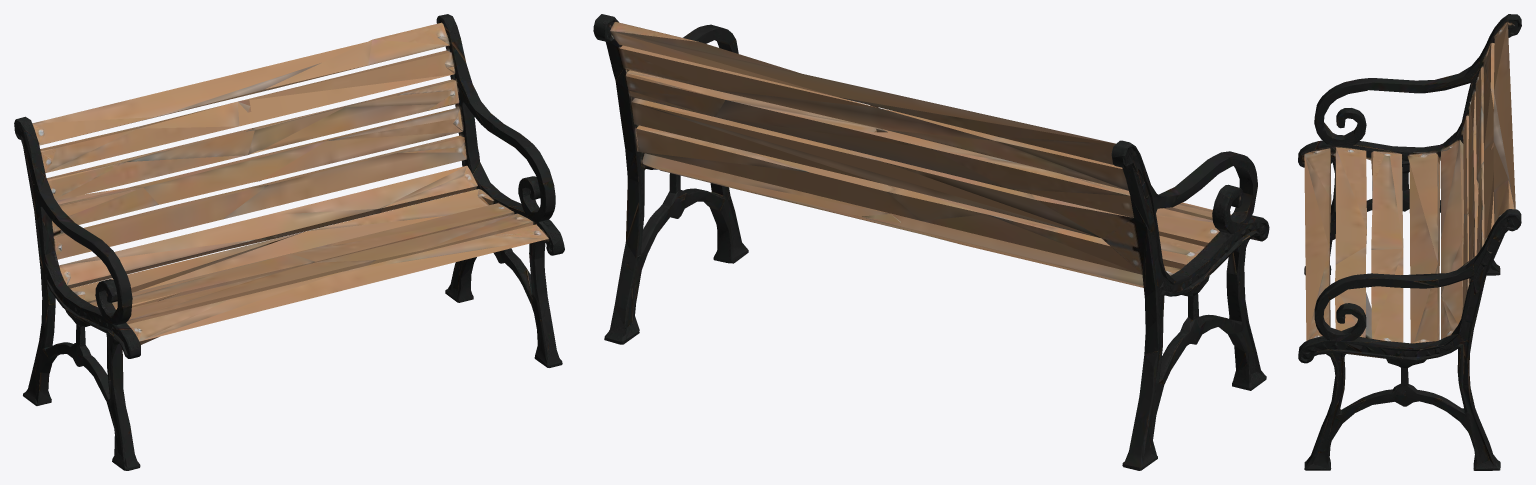
Rendered from park_bench.glb.
3 renders of one model, left to right at view 1: azimuth 30°, elevation 25°; view 2: azimuth 150°, elevation 25°; view 3: azimuth 270°, elevation 25°, orthographic. The views are drawn at different scales.
Parts seen in each view (by area): view 1: Mesh_0; view 2: Mesh_0; view 3: Mesh_0.
Part boxes in pixels (x1=…): Mesh_0: x1=14, y1=14, x2=564, y2=470; Mesh_0: x1=593, y1=14, x2=1269, y2=470; Mesh_0: x1=1298, y1=14, x2=1521, y2=470.
Size of the model in its own units: 1.53 by 0.9 by 0.7122.
1 material, 1 textured.
